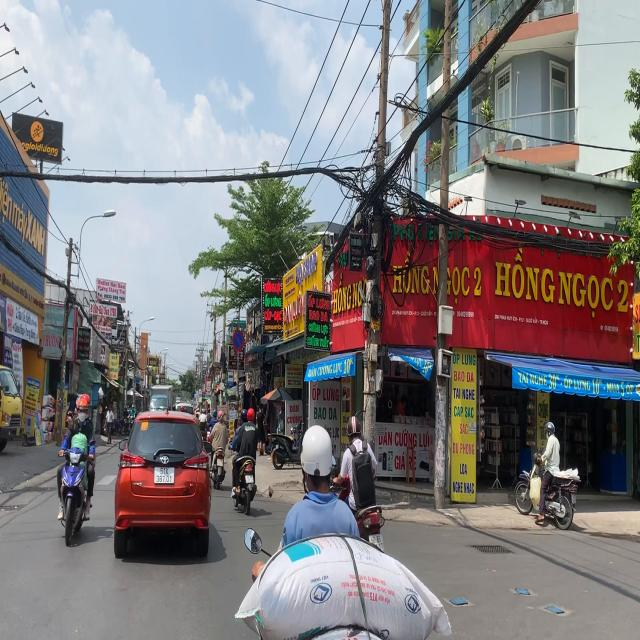Cam do: (232, 329, 244, 351)
Chi dan: (227, 370, 234, 387)
